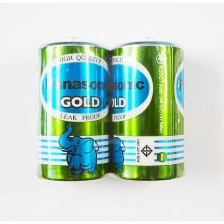battery: (107, 32, 186, 184), (36, 35, 111, 183)
